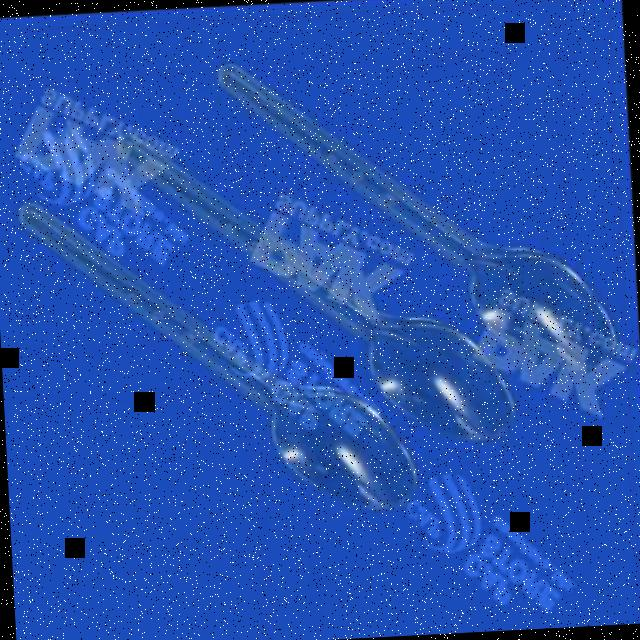plastic_box: (15, 41, 628, 526)
